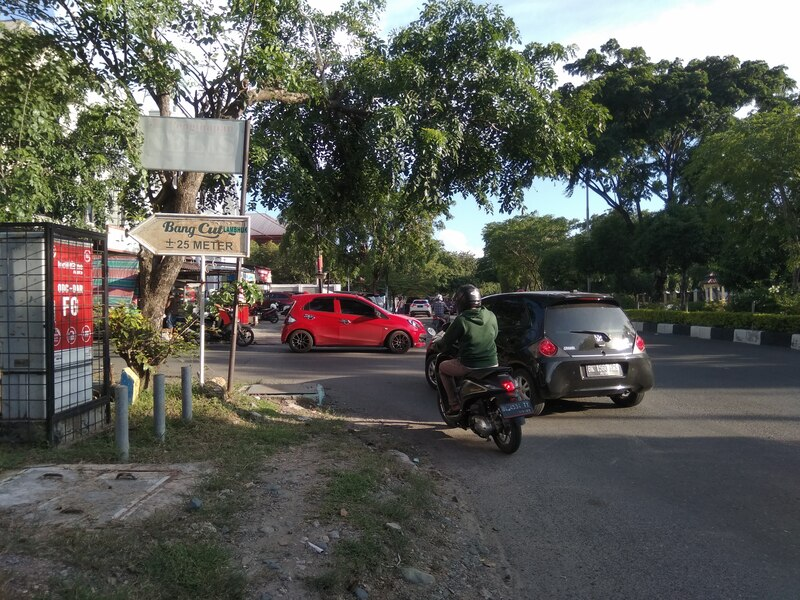car: (425, 289, 662, 411), (280, 288, 433, 361)
motorcycle: (426, 323, 541, 461)
